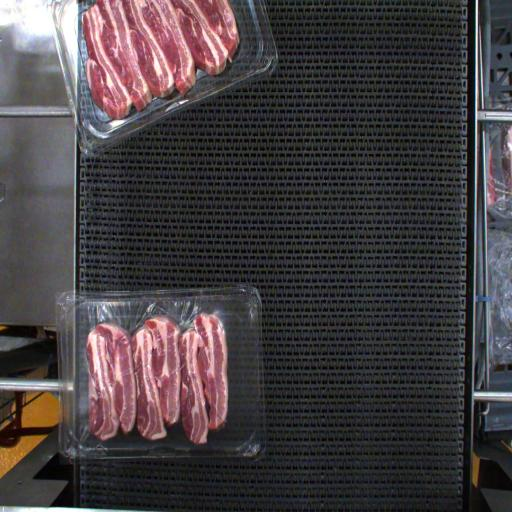unsealed: (58, 292, 258, 454)
